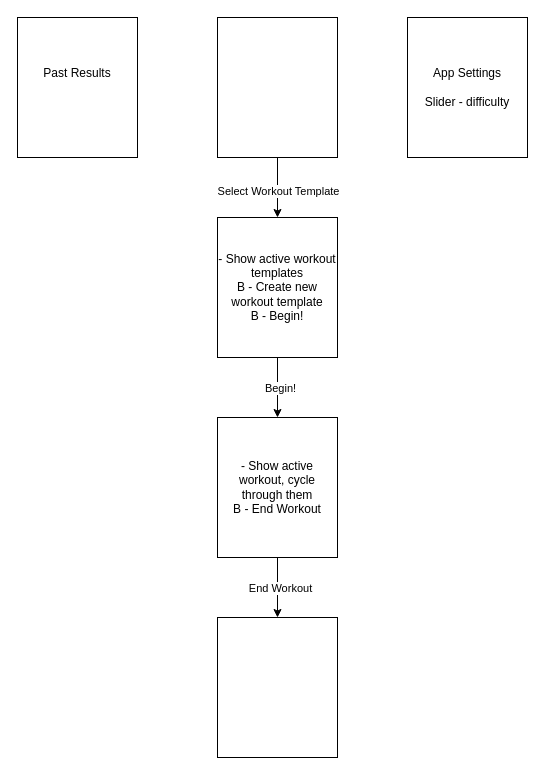
Image size: 545x775. Some labels were removed from this diagram. Each missing label, with the centre of its shape:
Home screen B Start workout B Past Results B App Settings: [277,87]
Results: [277,687]
